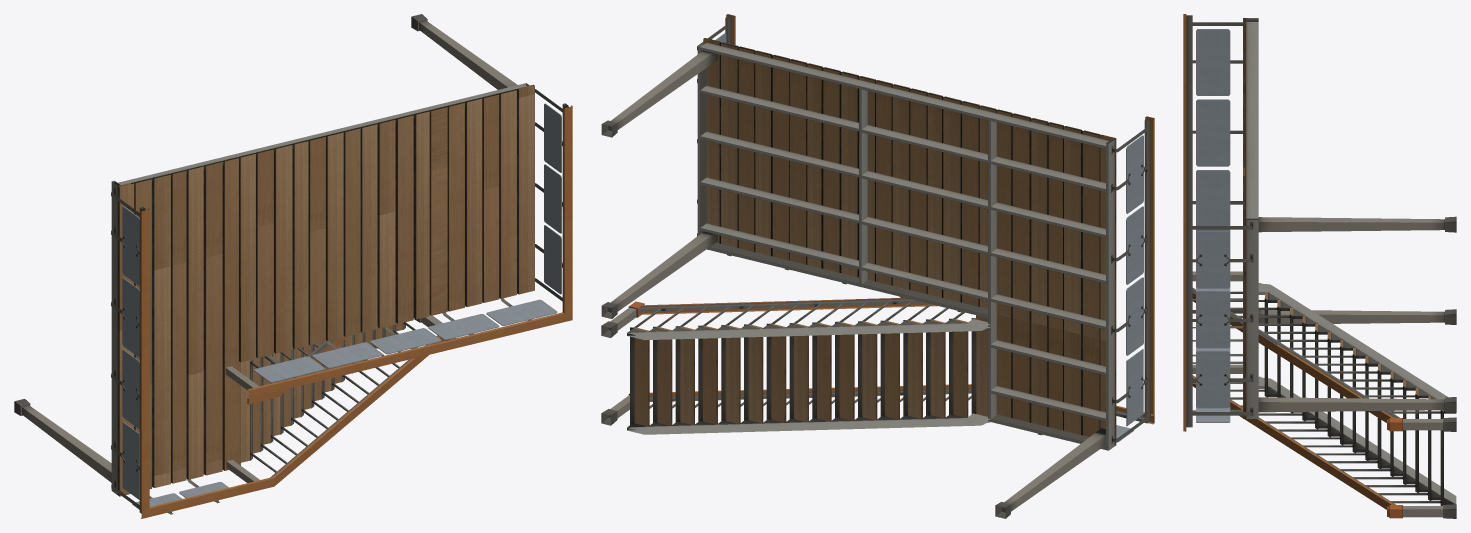
The model's file is nt_2020_house_01_balcony_LOD1.obj.
The picture shows the model from 3 angles, left to right: view 1: azimuth 30°, elevation 25°; view 2: azimuth 150°, elevation 25°; view 3: azimuth 270°, elevation 25°; orthographic projection.
Parts seen in each view (by area): view 1: mtl_nt_2020_house_01_balcony, glass_clear_mp_model; view 2: mtl_nt_2020_house_01_balcony, glass_clear_mp_model; view 3: mtl_nt_2020_house_01_balcony, glass_clear_mp_model.
Boxes of the visible parts, box(x1,y1,x2,y2) form: mtl_nt_2020_house_01_balcony: box(14, 14, 572, 518); glass_clear_mp_model: box(122, 103, 561, 509); mtl_nt_2020_house_01_balcony: box(601, 14, 1154, 518); glass_clear_mp_model: box(715, 33, 1143, 442); mtl_nt_2020_house_01_balcony: box(1183, 14, 1456, 518); glass_clear_mp_model: box(1196, 29, 1230, 422).
Bounding box in the file's own units: 792 × 553 × 442.
